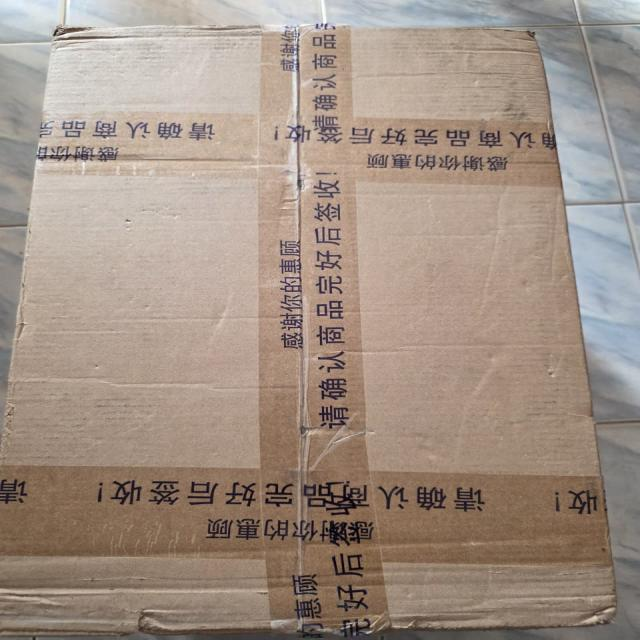carton_box: (1, 14, 640, 640)
package_damage: (95, 590, 633, 640), (292, 394, 325, 448), (32, 19, 89, 47), (288, 156, 319, 204)
